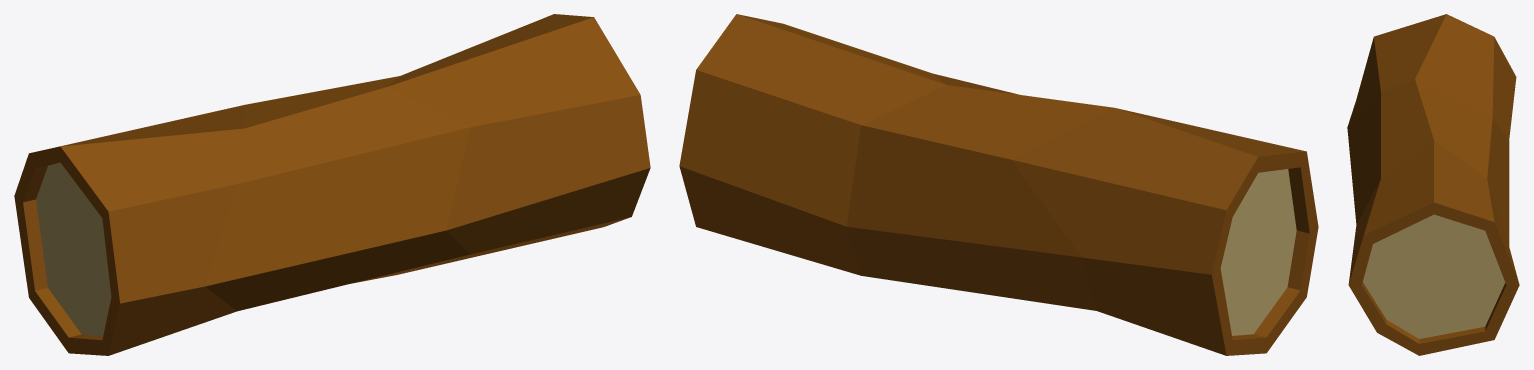
File: log.fbx
3 views of the same model, side by side, from view 1: azimuth 30°, elevation 25°; view 2: azimuth 150°, elevation 25°; view 3: azimuth 270°, elevation 25° (orthographic). The views are drawn at different scales.
Parts seen in each view (by area): view 1: Cylinder.029; view 2: Cylinder.029; view 3: Cylinder.029.
Part boxes in pixels (x1,y1,x2,y2): Cylinder.029: (14,14,650,355); Cylinder.029: (679,14,1318,355); Cylinder.029: (1347,14,1519,355).
Size of the model in its own units: 17870 by 6818 by 6706.
